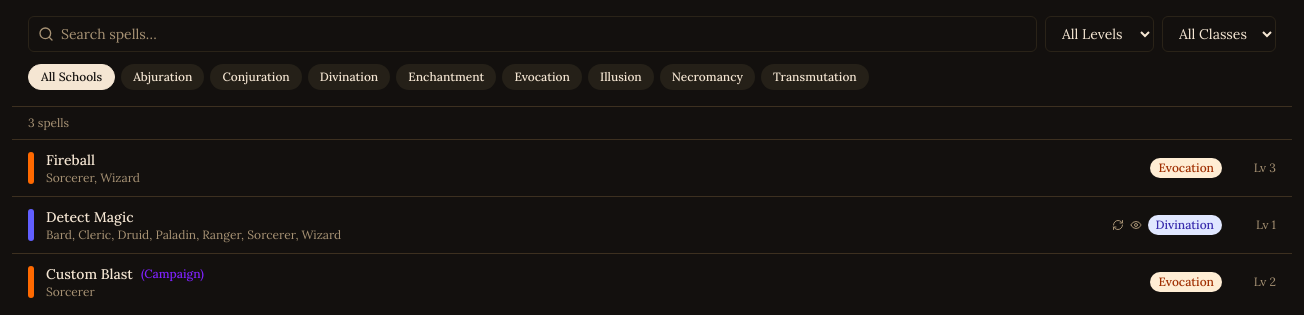
Test: SpellsTab › filters spells by name search
Expected: the text "Fireball" is shown, [46,150,95,170]
Type "fire" into the field with test id "spell-search" at [532, 34], box [28,16,1037,52]
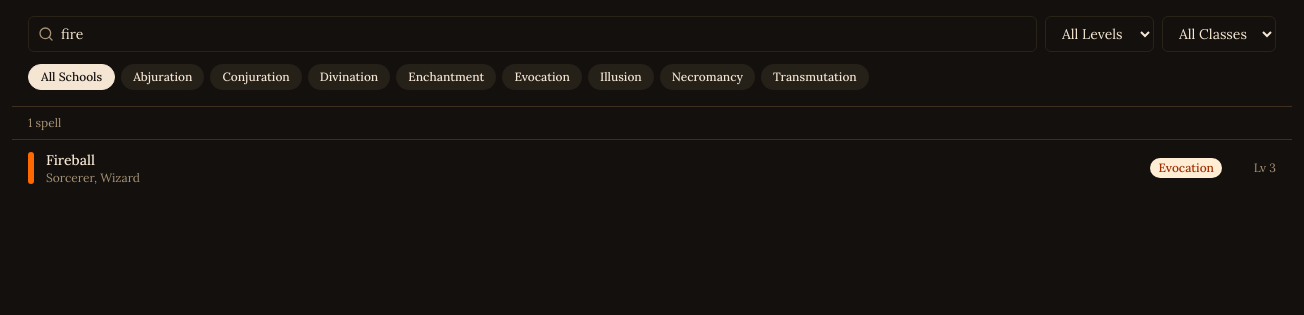
Expected: the text "Fireball" is shown, [46,150,95,170]
Expected: the button "Detect Magic" is gone
